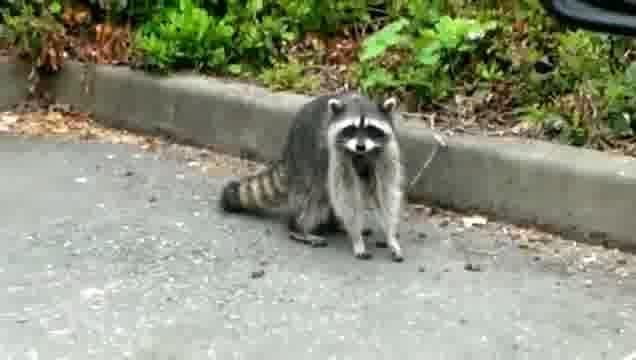raccoon: (216, 88, 414, 274)
